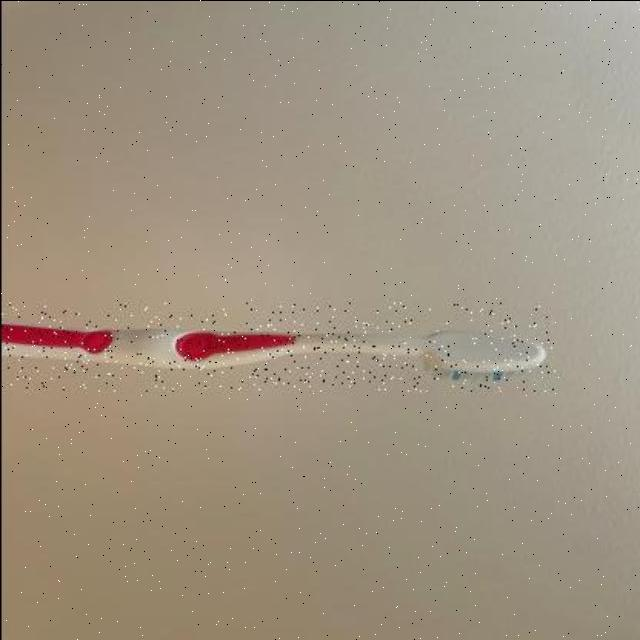toothbrush: (0, 302, 556, 391)
